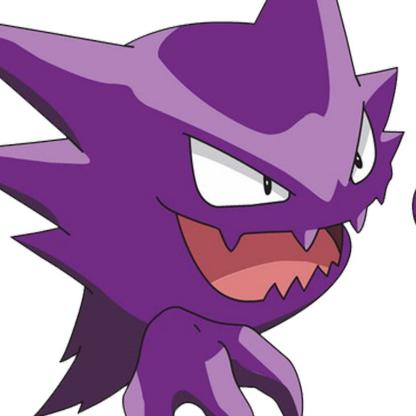Haunter: (1, 1, 415, 416)
